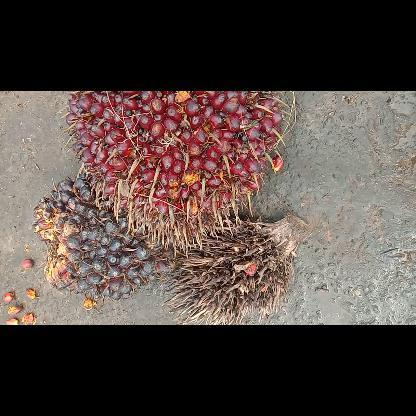Janjang kosong: (160, 210, 312, 324)
TBS masak: (55, 90, 292, 258)
TBS mentah: (32, 173, 170, 299)
